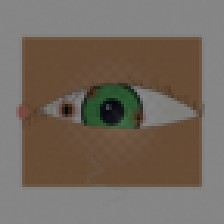foreign_body_visible: (43, 91, 91, 129)
